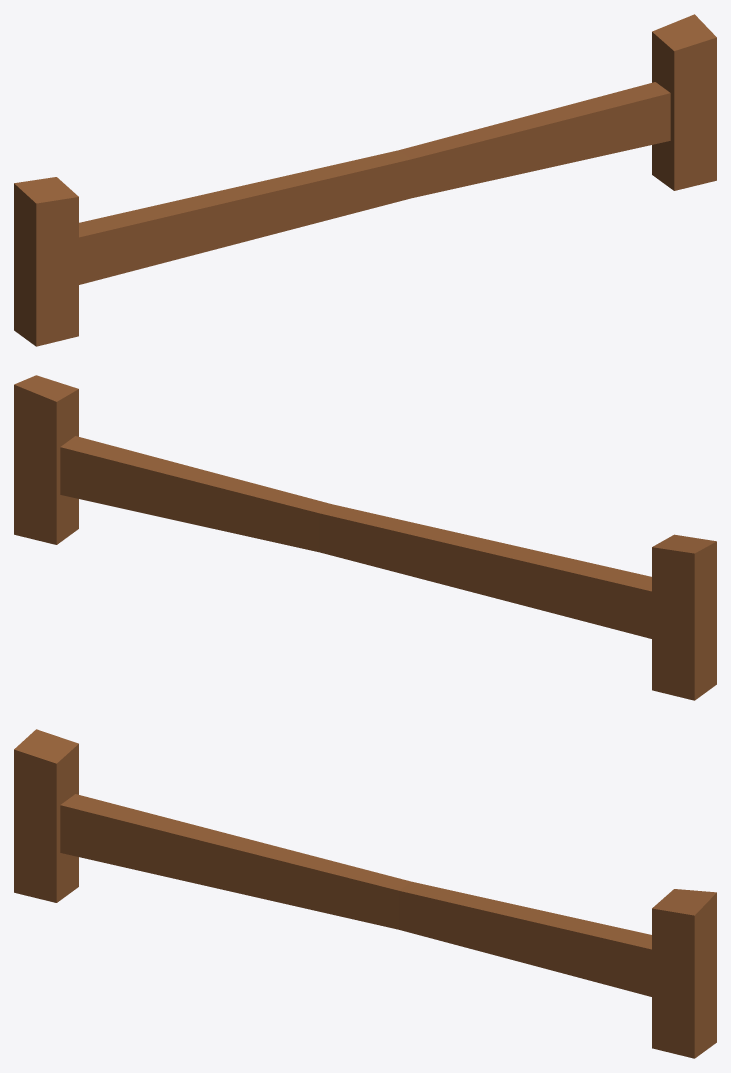
The model's file is Fence_Bold.fbx.
3 views of the same model, one above another, from view 1: azimuth 30°, elevation 25°; view 2: azimuth 150°, elevation 25°; view 3: azimuth 330°, elevation 25° (orthographic).
Visible parts, largest first — view 1: Fence_Bold; view 2: Fence_Bold; view 3: Fence_Bold.
Boxes of the visible parts, x1,y1,x2,y2 form: Fence_Bold: (14, 14, 716, 346); Fence_Bold: (14, 375, 716, 700); Fence_Bold: (14, 729, 716, 1058).
Bounding box in the file's own units: 462 × 97.29 × 26.17.
